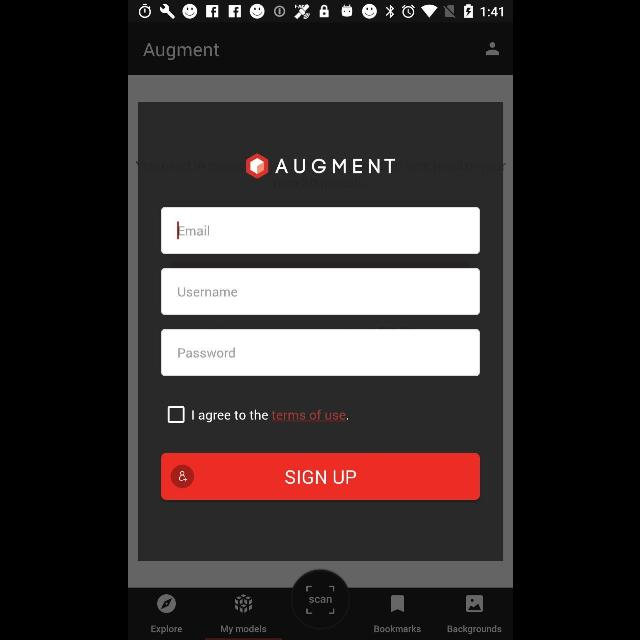checkbox: (167, 406, 183, 422)
icon: (157, 594, 176, 614), (391, 596, 404, 612), (486, 42, 498, 56)
image: (306, 586, 334, 614), (246, 154, 268, 178), (234, 594, 252, 614), (466, 596, 482, 612)
input: (161, 268, 479, 316), (161, 208, 479, 255), (161, 329, 479, 376)
panel: (138, 102, 502, 560)
text: (274, 158, 394, 174), (192, 410, 348, 422), (143, 44, 219, 60), (178, 348, 234, 358), (178, 288, 236, 296), (220, 624, 266, 634), (447, 626, 501, 634), (178, 226, 208, 236), (374, 626, 420, 632), (150, 626, 182, 634)
textbutton: (161, 454, 479, 500)
uppertaskbar: (128, 1, 512, 23)
